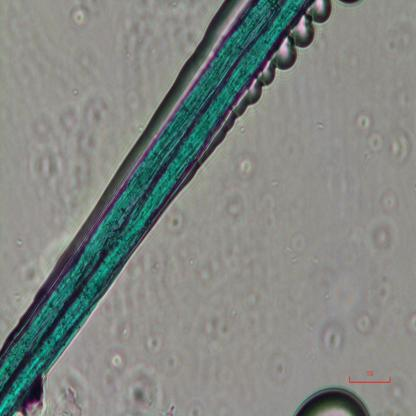Air bubble: (290, 386, 372, 415), (290, 19, 318, 48), (278, 41, 300, 74), (309, 0, 335, 26)
Background material: (19, 76, 114, 232), (108, 0, 188, 91), (375, 349, 416, 416), (330, 258, 372, 318), (15, 252, 53, 294), (264, 340, 295, 388), (381, 29, 416, 68), (128, 372, 160, 414), (367, 219, 397, 257), (193, 246, 222, 284), (318, 323, 347, 358), (372, 264, 392, 312), (201, 309, 228, 342), (387, 130, 413, 164), (285, 226, 311, 260), (142, 246, 166, 282), (54, 385, 81, 414), (175, 393, 209, 416), (163, 335, 180, 375), (236, 154, 258, 181), (104, 347, 127, 372), (166, 208, 186, 236), (70, 5, 90, 32), (381, 188, 401, 215), (354, 312, 375, 337), (221, 192, 242, 216), (143, 330, 163, 354), (354, 110, 374, 134), (368, 130, 386, 155), (406, 310, 416, 338), (336, 0, 368, 8), (265, 173, 279, 191), (162, 400, 177, 416), (313, 115, 325, 132), (15, 238, 26, 246)
Microfibre: (0, 0, 312, 415)
